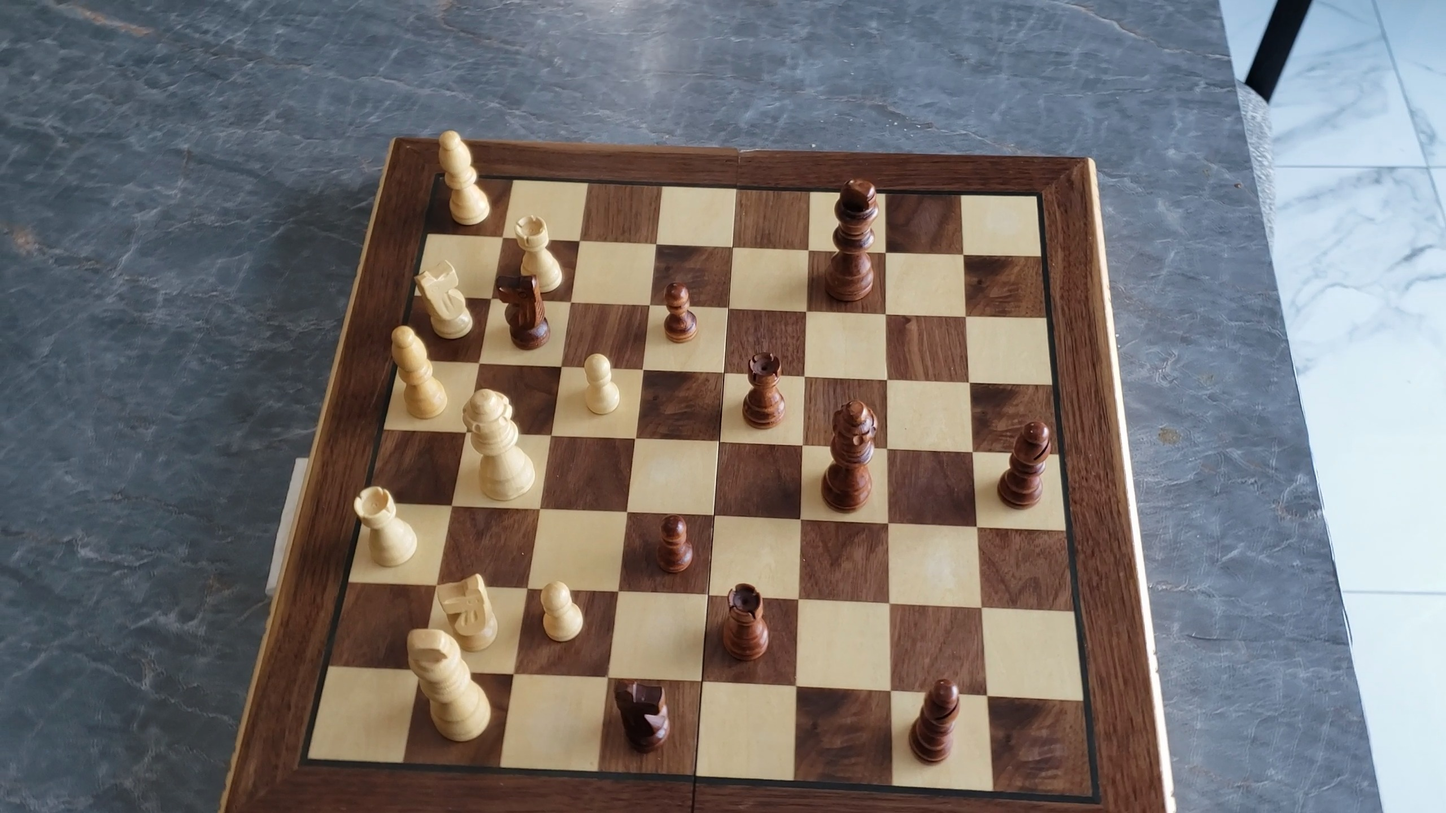black-bishop: (993, 411, 1053, 514), (907, 667, 966, 770)
black-king: (823, 170, 880, 305)
black-knight: (612, 677, 674, 755), (498, 272, 552, 351)
black-pawn: (655, 510, 697, 576), (660, 278, 700, 346)
black-queen: (815, 391, 883, 520)
black-rook: (717, 580, 772, 664), (740, 349, 789, 430)
white-bishop: (432, 125, 494, 230), (385, 324, 451, 422)
white-king: (396, 626, 491, 745)
white-knight: (432, 569, 503, 655), (413, 255, 477, 342)
white-pawn: (536, 576, 589, 645), (578, 349, 626, 418)
white-queen: (459, 387, 542, 505)
white-rook: (351, 483, 423, 571), (511, 211, 568, 297)
